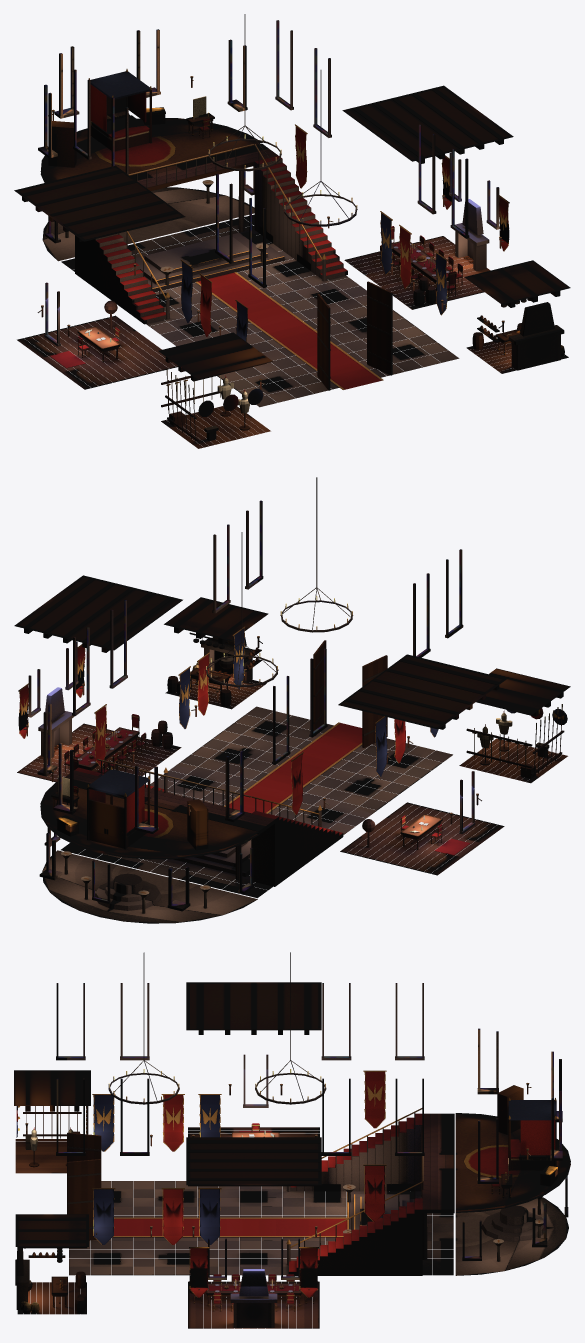
Rendered from castle_rooms_gi-runtime.glb.
3 views of the same model, one above another, from view 1: azimuth 30°, elevation 25°; view 2: azimuth 150°, elevation 25°; view 3: azimuth 270°, elevation 25° (orthographic). The views are drawn at different scales.
Visible parts, largest first — view 1: castle_gi_hall_rear, castle_gi_hall_front, castle_gi_dining, castle_gi_library, castle_gi_bedchamber, castle_gi_armory, castle_gi_kitchen, castle_gi_sanctuary; view 2: castle_gi_hall_front, castle_gi_hall_rear, castle_gi_dining, castle_gi_library, castle_gi_bedchamber, castle_gi_sanctuary, castle_gi_armory, castle_gi_kitchen; view 3: castle_gi_hall_rear, castle_gi_hall_front, castle_gi_dining, castle_gi_bedchamber, castle_gi_library, castle_gi_sanctuary, castle_gi_kitchen, castle_gi_armory.
Part boxes in pixels (x1=…): castle_gi_hall_rear: x1=61, y1=14, x2=351, y2=333; castle_gi_hall_front: x1=152, y1=70, x2=469, y2=407; castle_gi_dining: x1=342, y1=85, x2=513, y2=309; castle_gi_library: x1=14, y1=165, x2=185, y2=389; castle_gi_bedchamber: x1=38, y1=29, x2=262, y2=182; castle_gi_armory: x1=158, y1=332, x2=272, y2=448; castle_gi_kitchen: x1=464, y1=260, x2=570, y2=373; castle_gi_sanctuary: x1=40, y1=143, x2=259, y2=261; castle_gi_hall_front: x1=150, y1=477, x2=463, y2=830; castle_gi_hall_rear: x1=60, y1=532, x2=354, y2=898; castle_gi_dining: x1=14, y1=575, x2=182, y2=782; castle_gi_library: x1=338, y1=654, x2=506, y2=875; castle_gi_bedchamber: x1=37, y1=703, x2=259, y2=856; castle_gi_sanctuary: x1=39, y1=806, x2=259, y2=923; castle_gi_armory: x1=459, y1=668, x2=570, y2=783; castle_gi_kitchen: x1=164, y1=597, x2=268, y2=709; castle_gi_hall_rear: x1=262, y1=952, x2=454, y2=1275; castle_gi_hall_front: x1=56, y1=952, x2=286, y2=1275; castle_gi_dining: x1=186, y1=1137, x2=321, y2=1328; castle_gi_bedchamber: x1=455, y1=1028, x2=570, y2=1210; castle_gi_library: x1=186, y1=982, x2=321, y2=1137; castle_gi_sanctuary: x1=455, y1=1163, x2=570, y2=1275; castle_gi_kitchen: x1=15, y1=1214, x2=88, y2=1314; castle_gi_armory: x1=14, y1=1070, x2=90, y2=1173.
Bounding box in the file's own units: 26.2 × 16.59 × 30.4.
8 materials, 8 textured.
